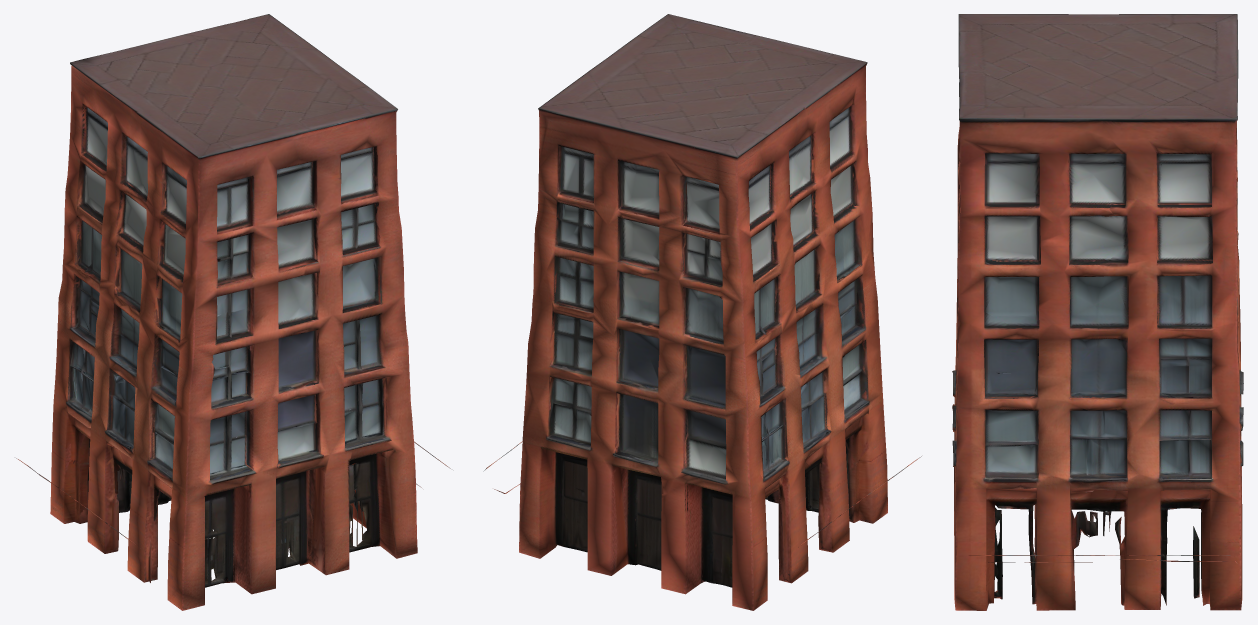
Rendered from apartment1.glb.
3 renders of one model, left to right at view 1: azimuth 30°, elevation 25°; view 2: azimuth 150°, elevation 25°; view 3: azimuth 270°, elevation 25°, orthographic. The views are drawn at different scales.
Size of the model in its own units: 1.46 by 2 by 1.09.
Materials: 1 (1 with a texture image).
